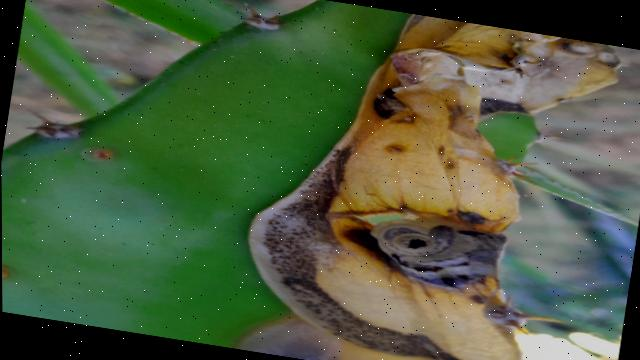stemcanker: (72, 144, 125, 167)
